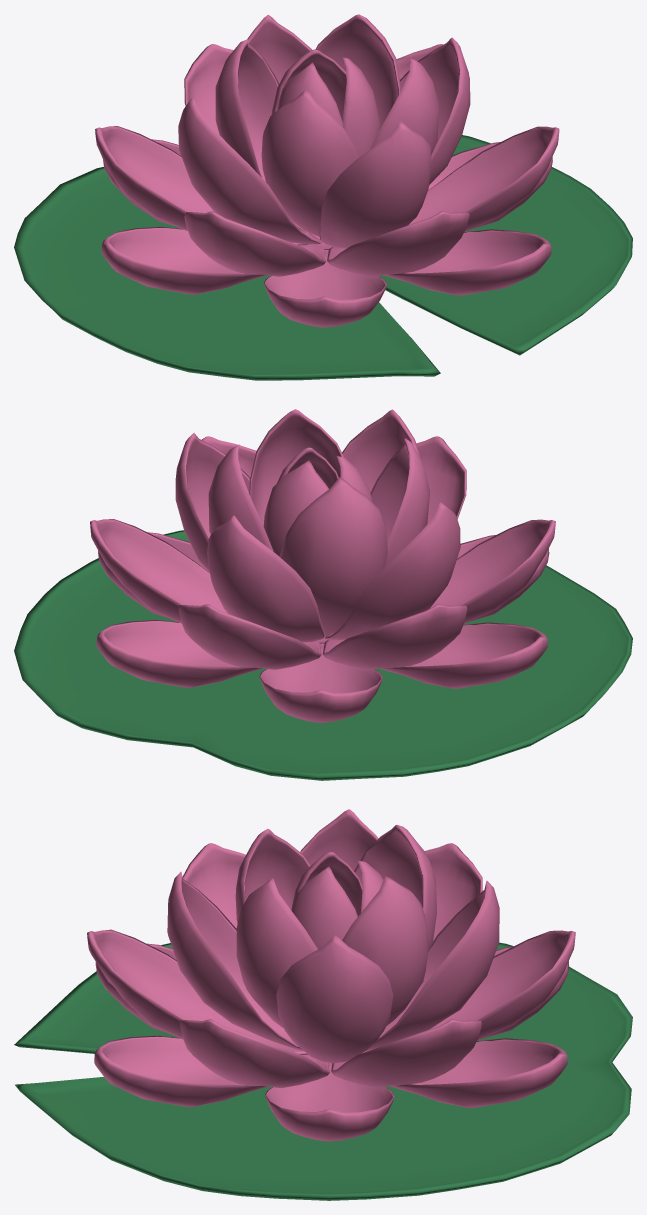
File: lilly_without_flower.fbx
3 views of the same model, one above another, from view 1: azimuth 30°, elevation 25°; view 2: azimuth 150°, elevation 25°; view 3: azimuth 270°, elevation 25° (orthographic). The views are drawn at different scales.
Parts seen in each view (by area): view 1: Lillypad2.001, Lillypad2; view 2: Lillypad2.001, Lillypad2; view 3: Lillypad2.001, Lillypad2.
Boxes of the visible parts, <box> form: Lillypad2.001: <box>95,14,559,327</box>; Lillypad2: <box>14,135,632,380</box>; Lillypad2.001: <box>90,409,555,722</box>; Lillypad2: <box>14,530,632,780</box>; Lillypad2.001: <box>87,809,575,1141</box>; Lillypad2: <box>14,942,632,1200</box>.
Size of the model in its own units: 116 by 44.3 by 112.
